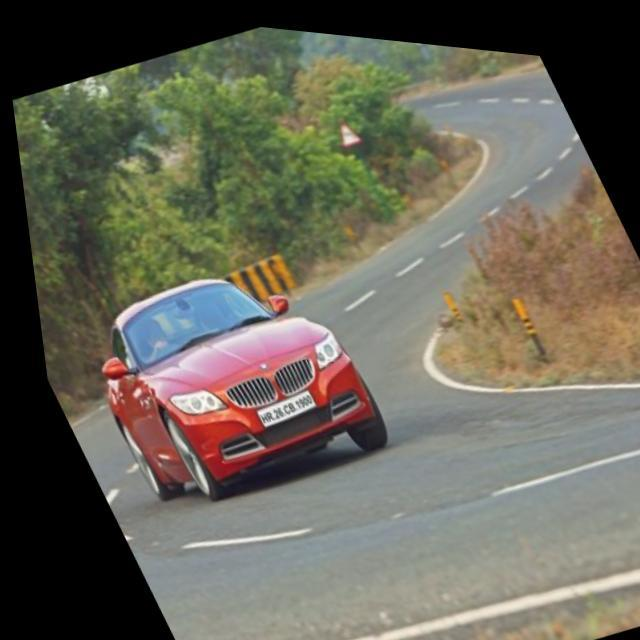license_plate: (235, 368, 328, 433)
